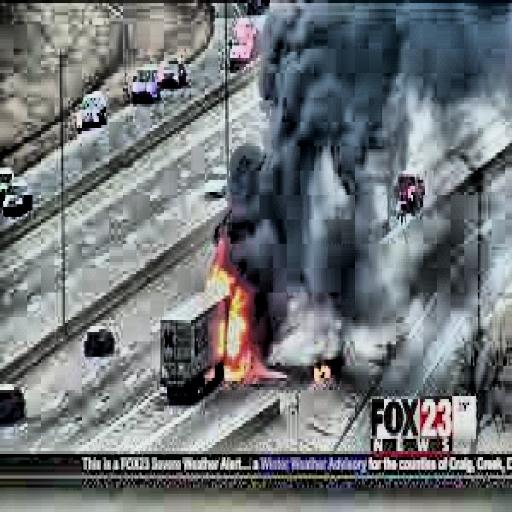fire: (205, 232, 290, 393), (304, 351, 336, 387)
